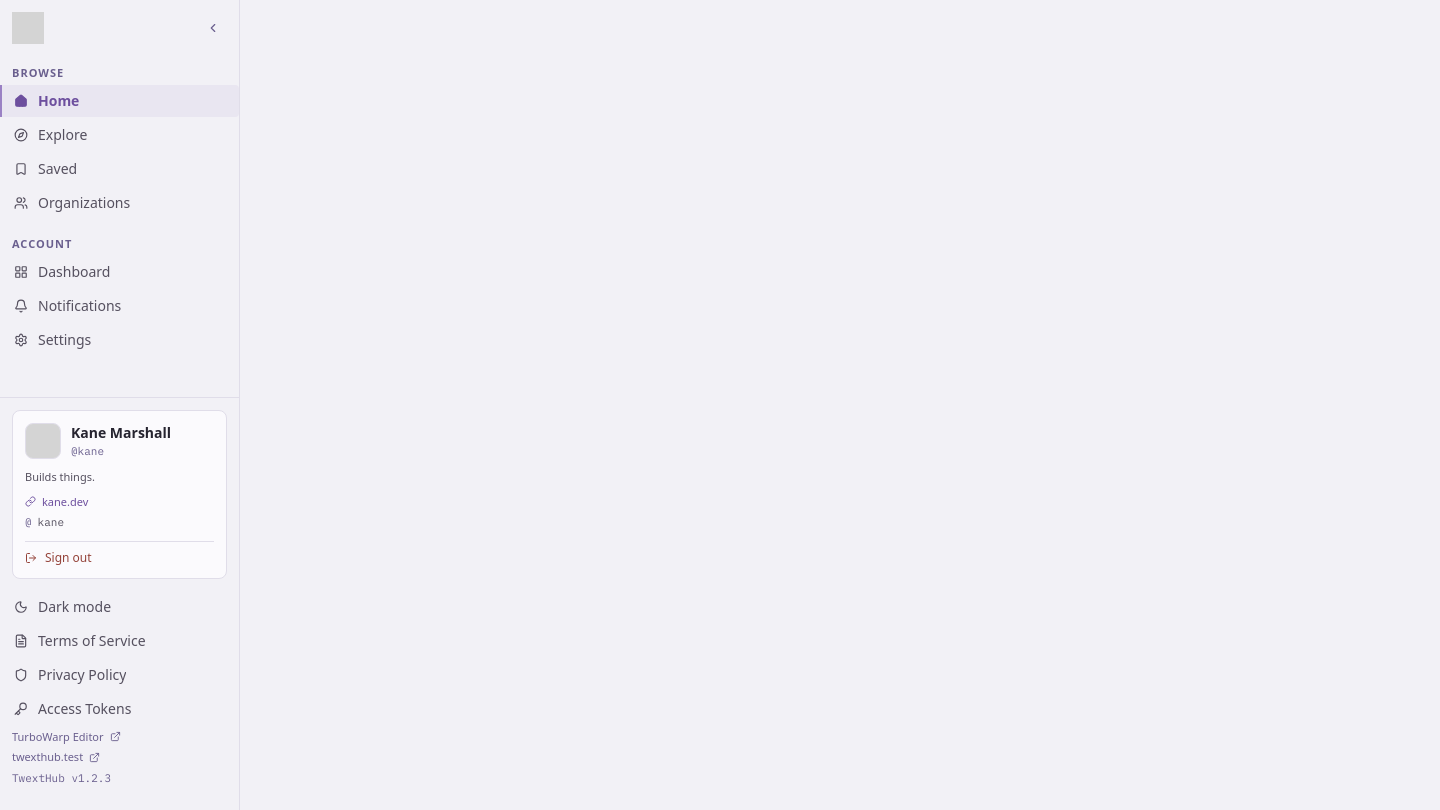
Test: Sidebar notifications › opens the inbox as a dialog rather than a popover
This screenshot has width=1440, height=810.
Click the button with test id "sidebar-notifications" at (120, 306), box [0,290,239,322]
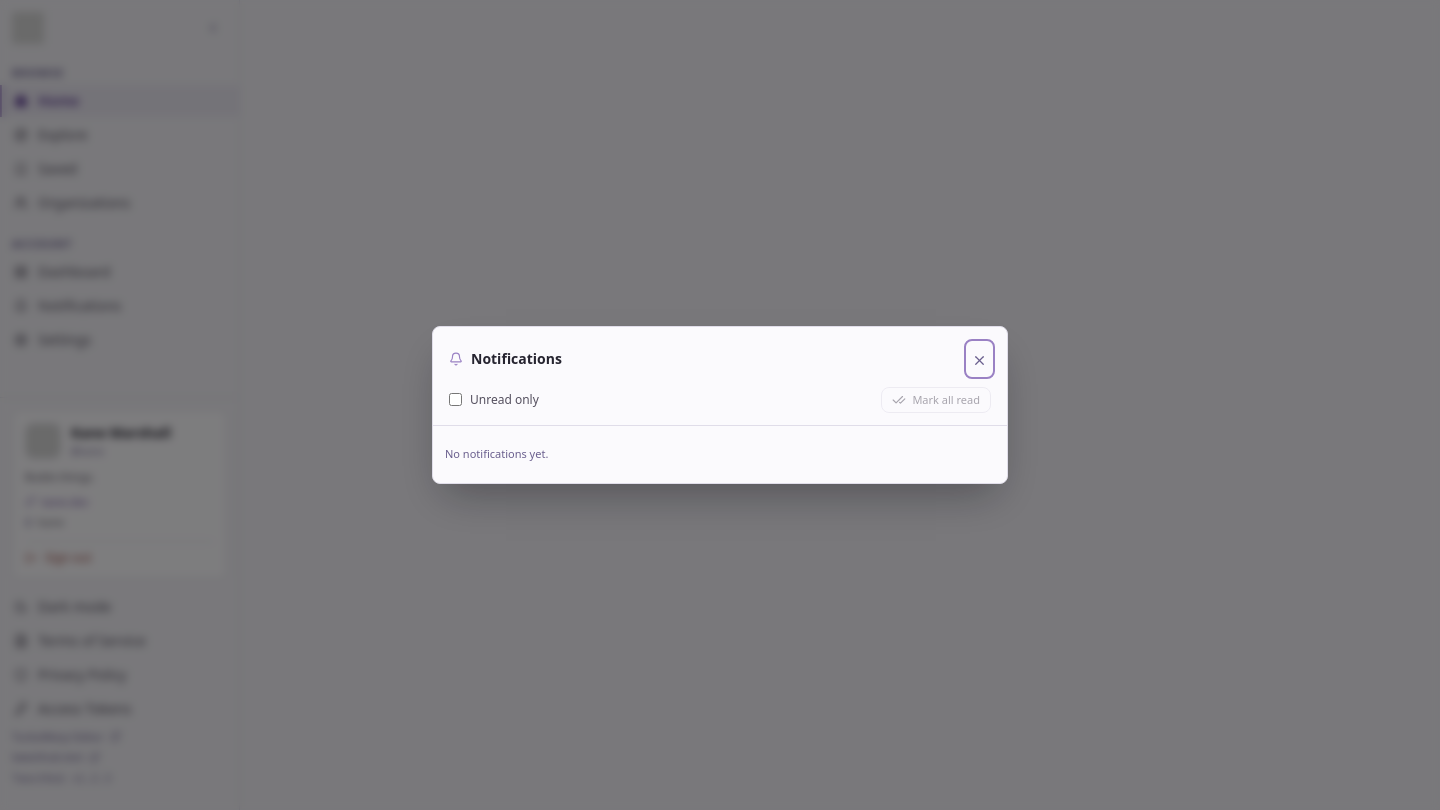
Result: the dialog "Notifications" is shown at [432,326,1008,484]
